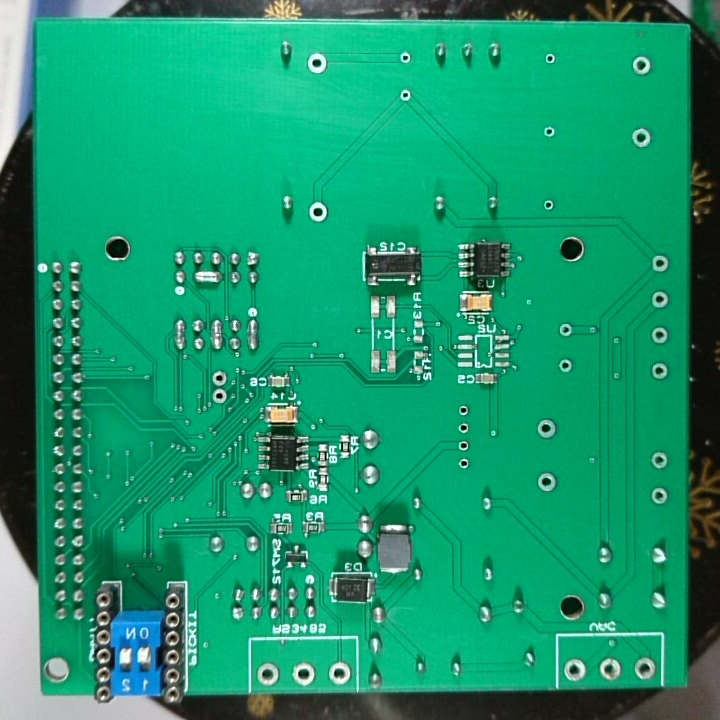F: (254, 660, 282, 689), (290, 659, 317, 689), (325, 659, 353, 686), (561, 656, 588, 683), (628, 52, 654, 80), (631, 655, 657, 682), (304, 50, 331, 75), (534, 416, 560, 441), (305, 200, 330, 225), (534, 470, 559, 495), (628, 125, 654, 149), (648, 250, 672, 275), (648, 360, 672, 383), (648, 449, 672, 472), (597, 657, 620, 681), (648, 287, 671, 309), (648, 324, 671, 346), (555, 355, 577, 378), (555, 319, 575, 343), (649, 486, 669, 507), (454, 399, 474, 420), (209, 369, 230, 388), (540, 49, 559, 69), (455, 436, 474, 455), (210, 386, 228, 406), (454, 455, 473, 473), (540, 122, 558, 140), (397, 49, 414, 68), (540, 197, 557, 215), (454, 420, 473, 436), (397, 86, 411, 105)
P: (208, 315, 225, 354), (245, 316, 262, 353), (192, 267, 224, 286), (171, 318, 188, 352)
